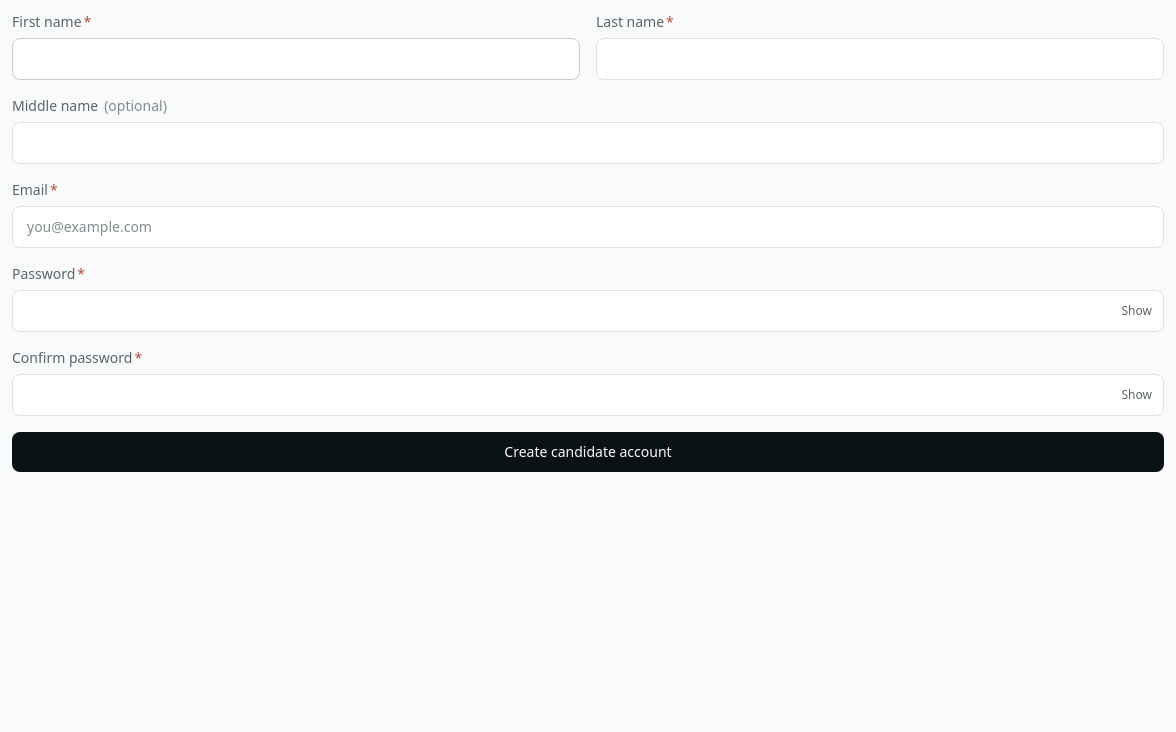
Scenario: CandidateRegisterForm › rejects mismatched passwords
Type "Ada" into the field labelled "First name*" at (296, 59), box [12,38,580,80]
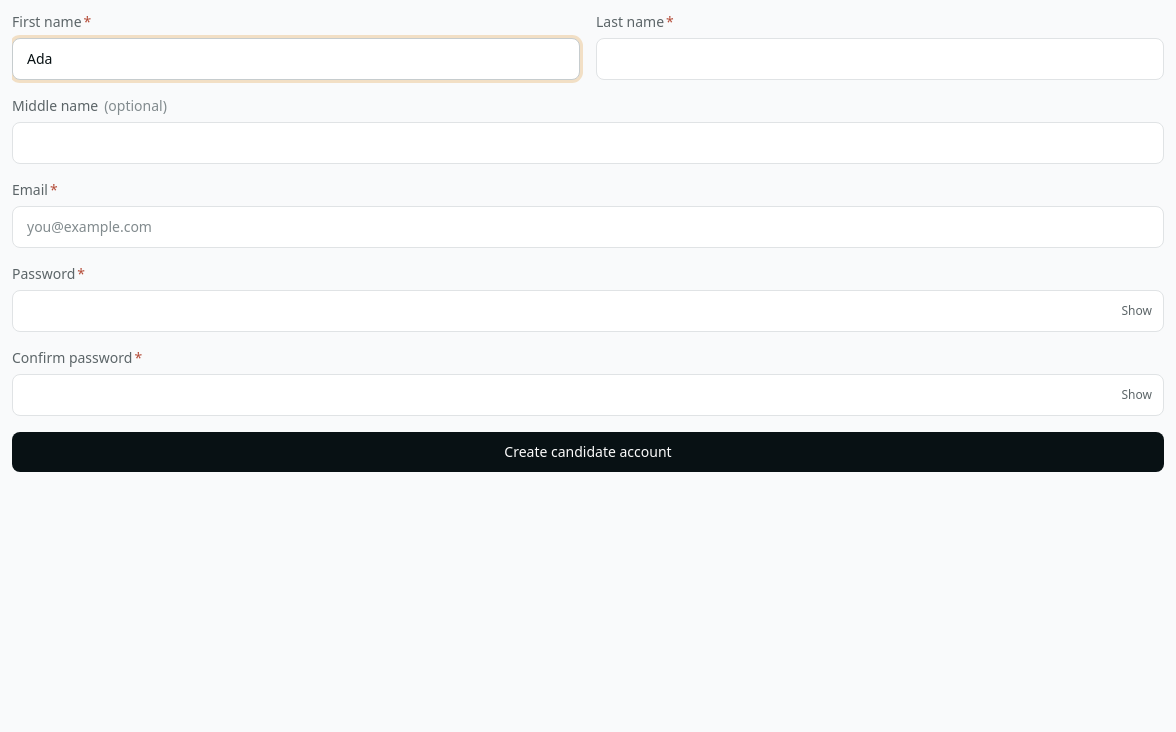
Type "Lovelace" into the field labelled "Last name*" at (880, 59), box [596,38,1164,80]
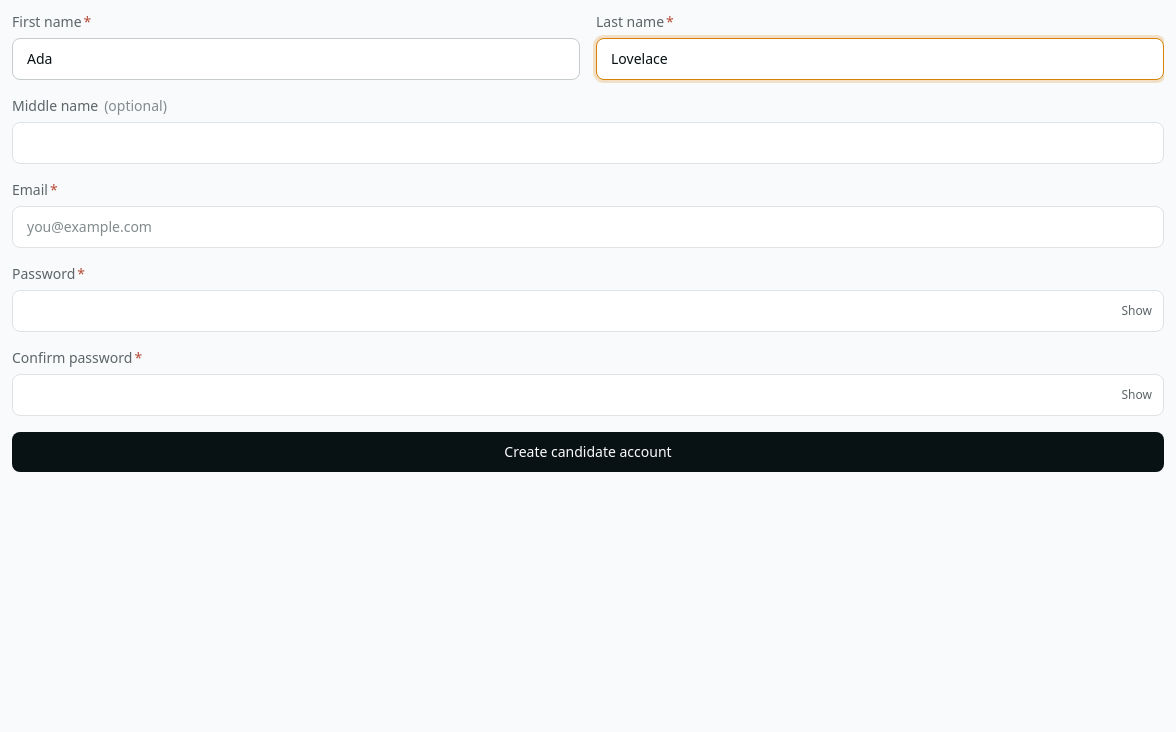
Type "ada@example.com" into the field labelled "Email*" at (588, 227), box [12,206,1164,248]
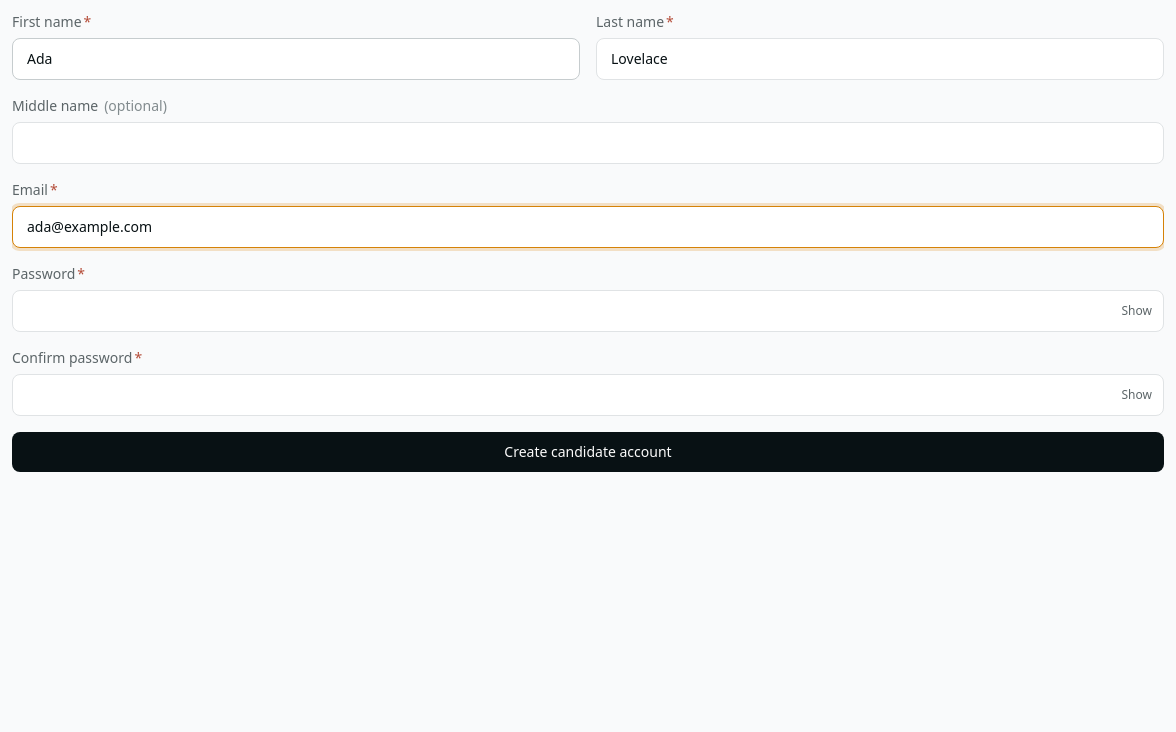
Type "Str0ng!pass" into the password field labelled "Password*" at (588, 311), box [12,290,1164,332]
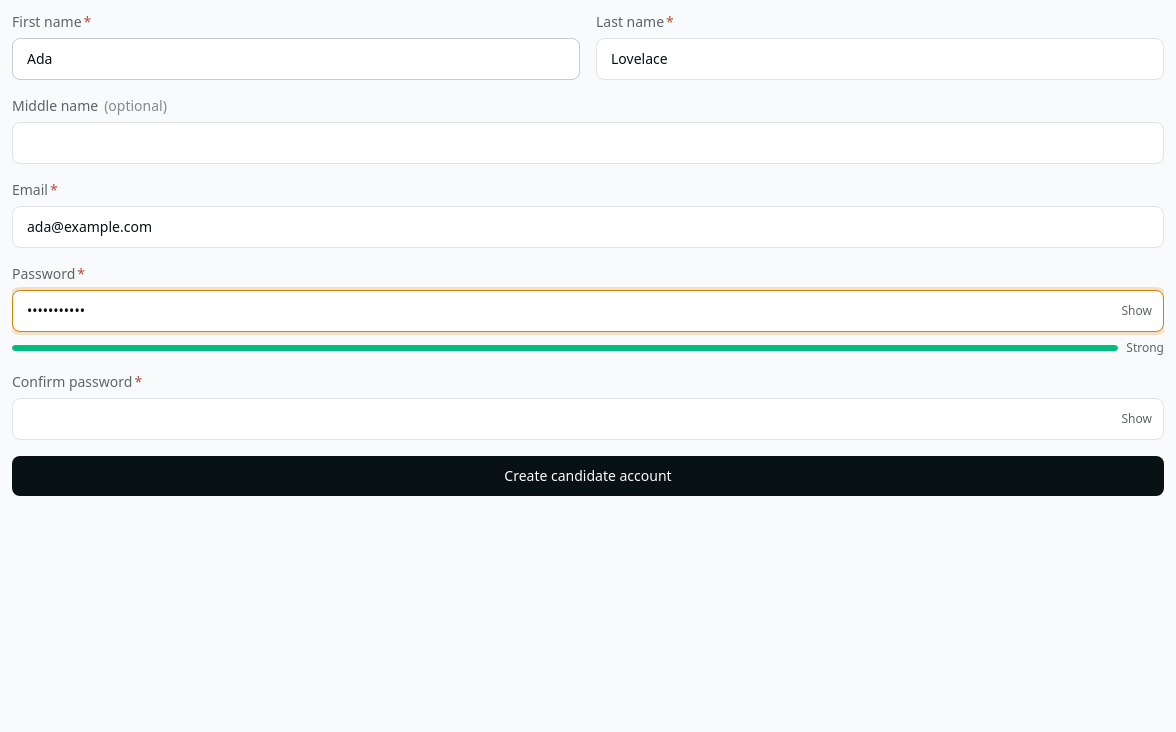
Type "Different1!" into the password field labelled "Confirm password*" at (588, 419), box [12,398,1164,440]
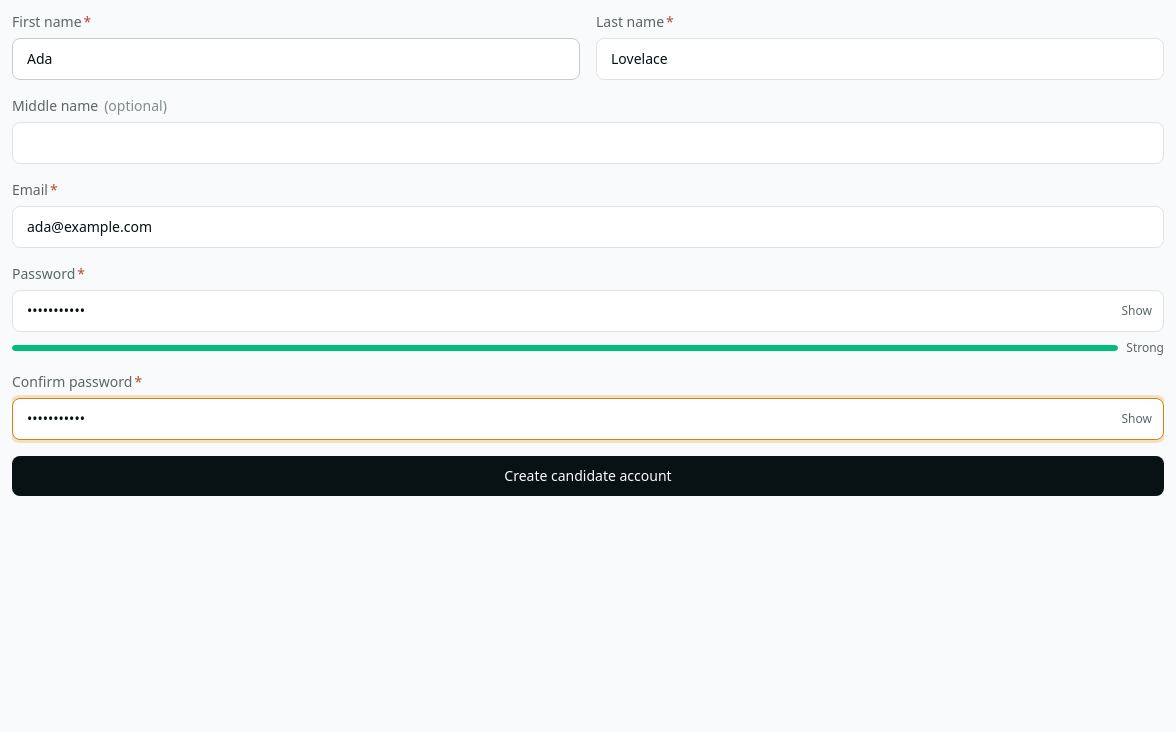
Click the button "Create candidate account" at (588, 476), box [12,456,1164,496]
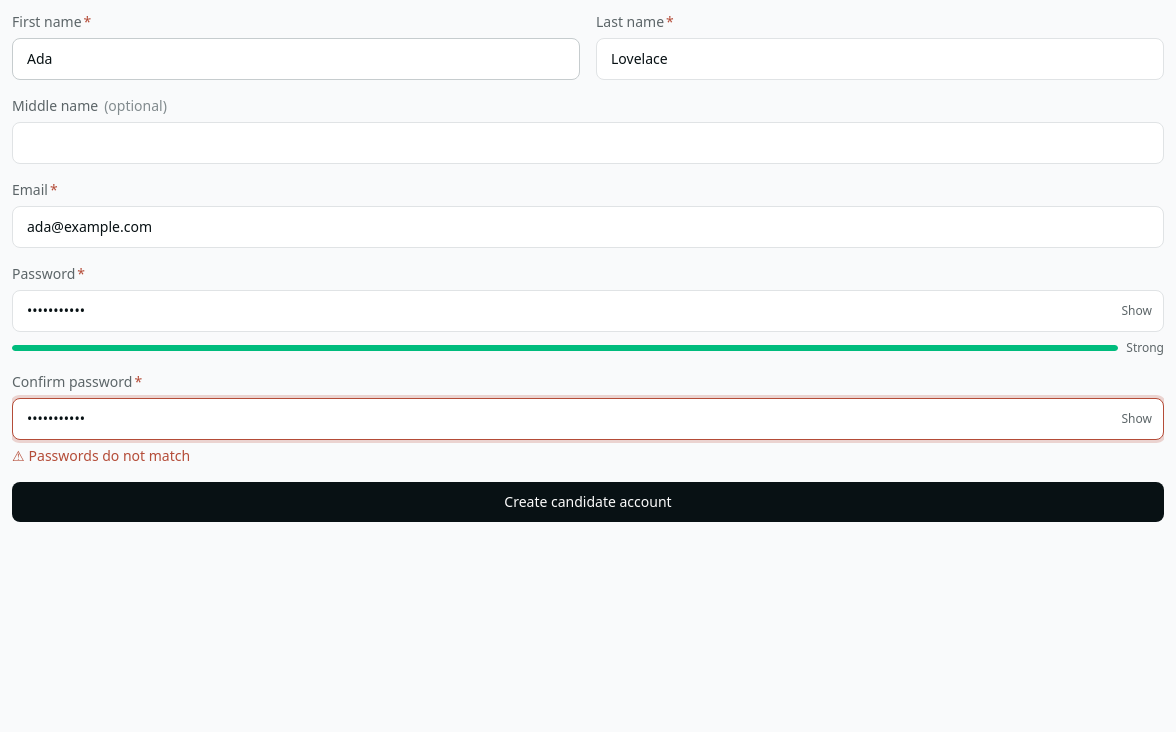
Expected: the text "Passwords do not match" is shown, [29,446,190,466]
